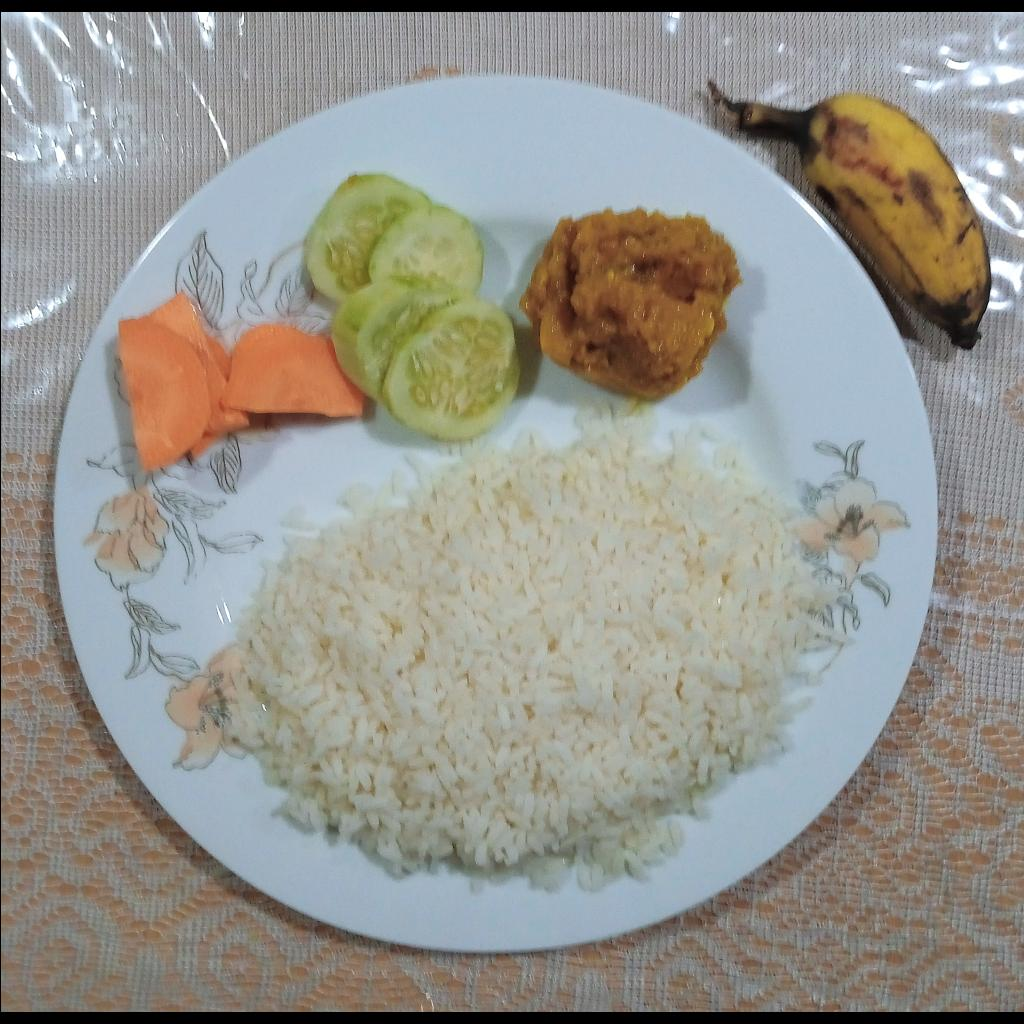banana: (706, 80, 992, 352)
carrot: (115, 290, 364, 475)
cucumber: (302, 172, 521, 441)
kumra-vaji: (518, 206, 740, 402)
rice: (228, 402, 844, 894)
